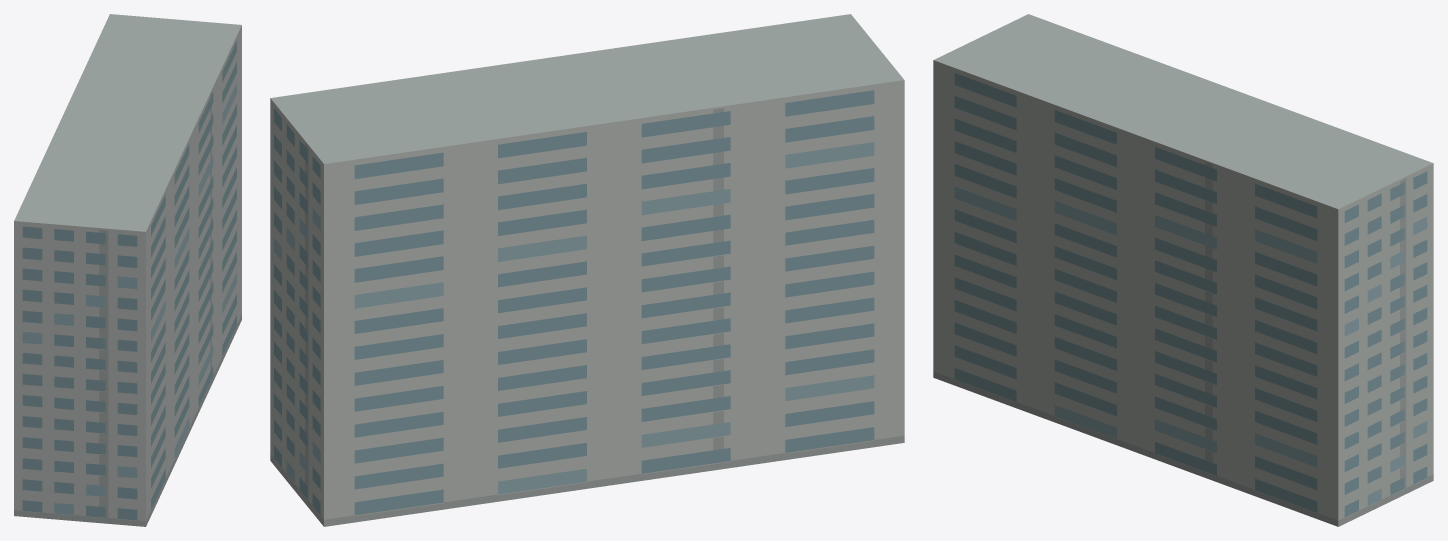
The model's file is residential-d49e86ab-9d8f-43c1-9e62-0b2b3b7d2bcf.glb.
3 views of the same model, side by side, from view 1: azimuth 30°, elevation 25°; view 2: azimuth 150°, elevation 25°; view 3: azimuth 270°, elevation 25° (orthographic). The views are drawn at different scales.
Parts seen in each view (by area): view 1: residential-d49e86ab-9d8f-43c1-9e62-0b2b3b7d2bcf.tmp; view 2: residential-d49e86ab-9d8f-43c1-9e62-0b2b3b7d2bcf.tmp; view 3: residential-d49e86ab-9d8f-43c1-9e62-0b2b3b7d2bcf.tmp.
Boxes of the visible parts, <box> form: residential-d49e86ab-9d8f-43c1-9e62-0b2b3b7d2bcf.tmp: <box>14,14,241,526</box>; residential-d49e86ab-9d8f-43c1-9e62-0b2b3b7d2bcf.tmp: <box>270,14,904,526</box>; residential-d49e86ab-9d8f-43c1-9e62-0b2b3b7d2bcf.tmp: <box>933,14,1433,526</box>.
Bounding box in the file's own units: 56.31 × 42.7 × 60.93.
